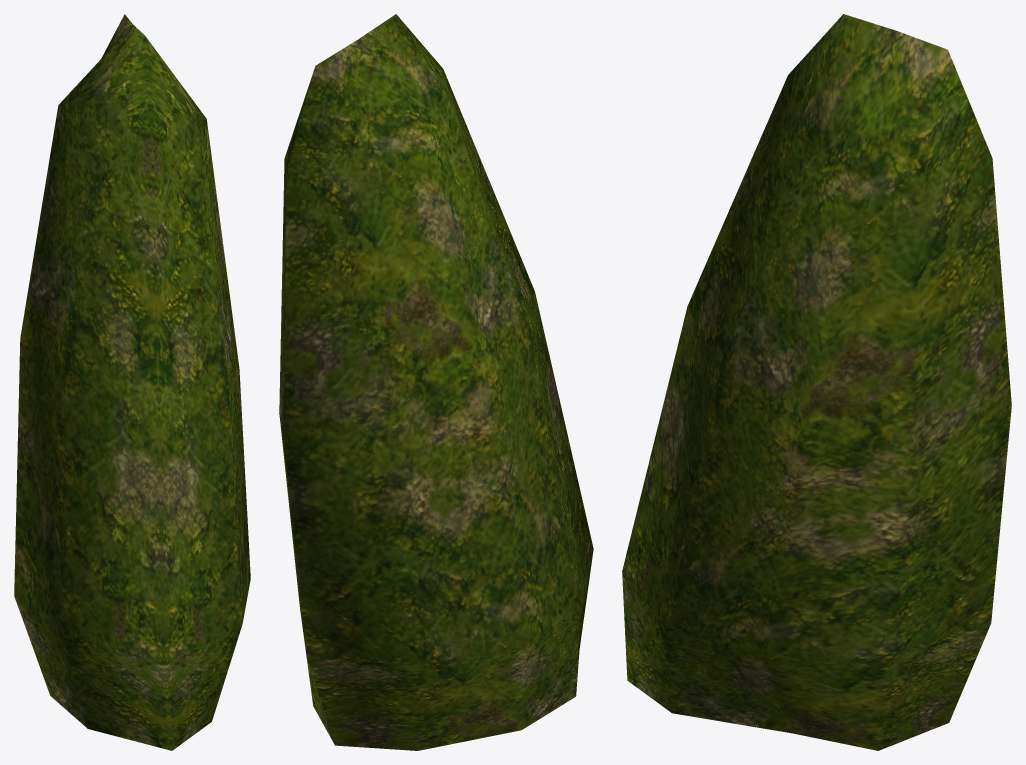
File: OVERHILL_A_01_BOX19.fbx
The picture shows the model from 3 angles, left to right: view 1: azimuth 30°, elevation 25°; view 2: azimuth 150°, elevation 25°; view 3: azimuth 270°, elevation 25°; orthographic projection. The views are drawn at different scales.
Parts seen in each view (by area): view 1: OVERHILL_A_01_BOX19; view 2: OVERHILL_A_01_BOX19; view 3: OVERHILL_A_01_BOX19.
Part boxes in pixels (x1,y1,x2,y2): OVERHILL_A_01_BOX19: (14,14,250,750); OVERHILL_A_01_BOX19: (279,14,593,750); OVERHILL_A_01_BOX19: (622,14,1011,750).
Bounding box in the file's own units: 16649 × 49566 × 24851.
Materials: 1 (1 with a texture image).
